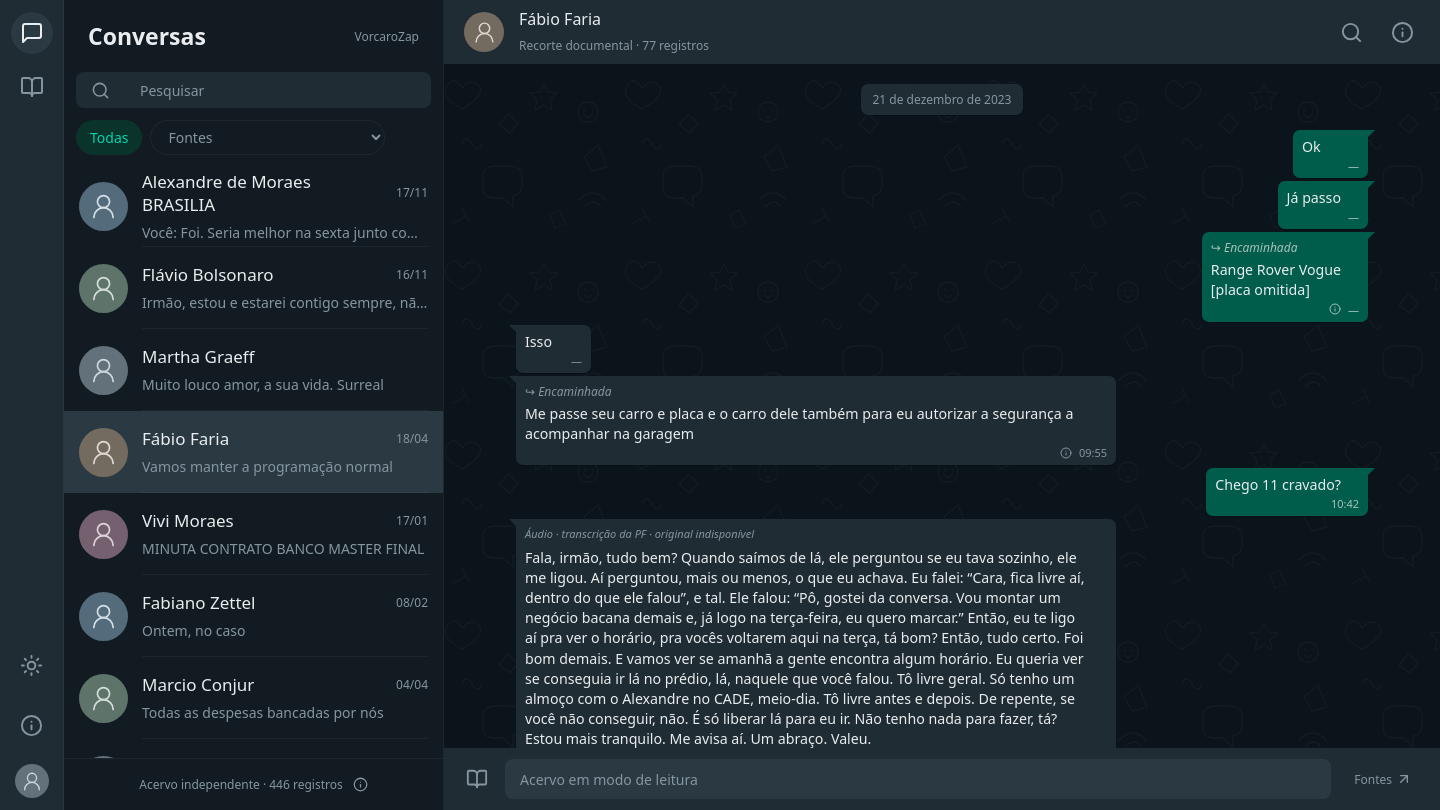
consulta e auditoria › busca sem acentos encontra conteúdo e navega ao resultado
Step 1. Type "prestacao" into the field named "Pesquisar conversas" → (277, 90), box [138,72,416,108]
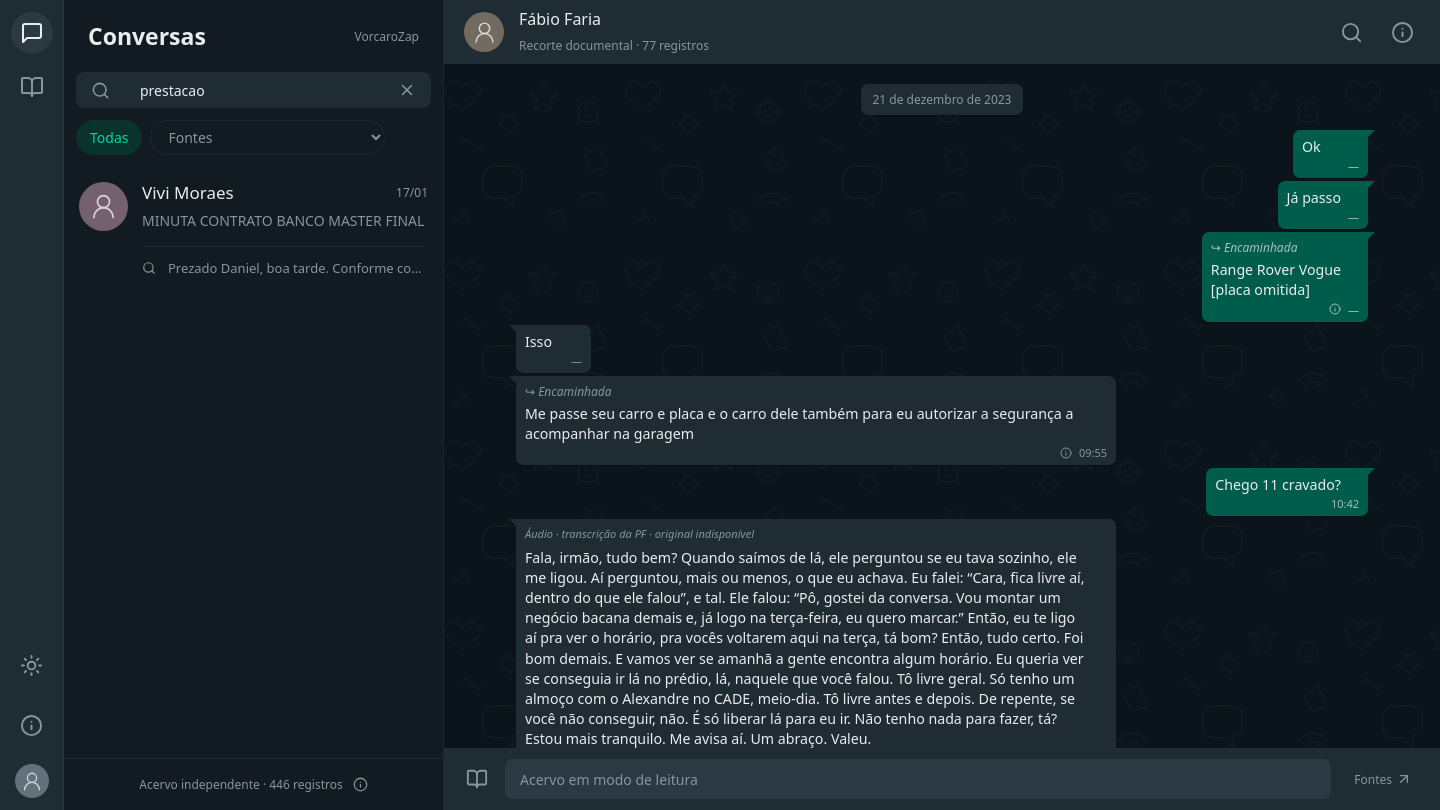
Step 2. Click the button "Prezado Daniel" → (254, 268), box [64,247,443,289]
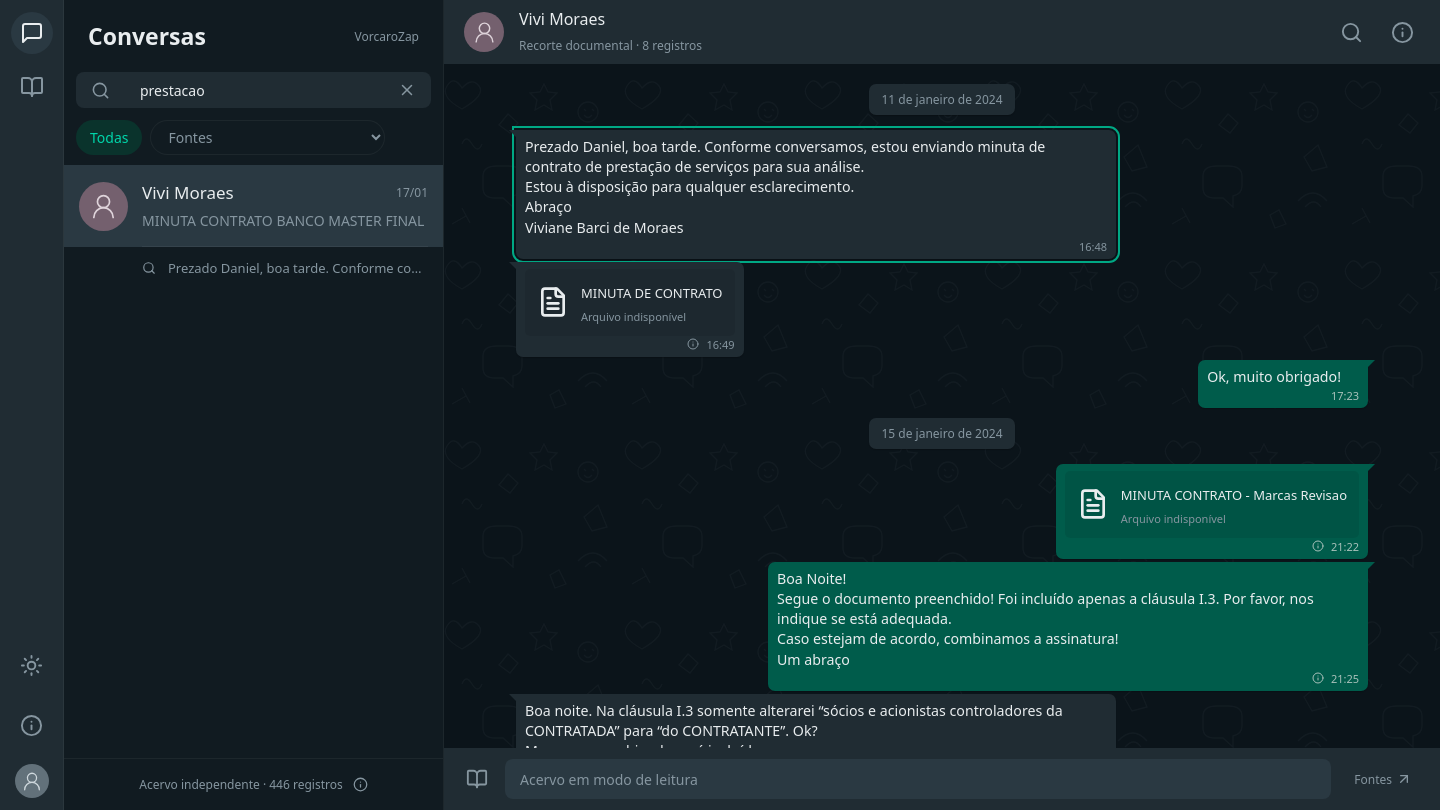
Now the element named "Conversa com Vivi" is shown
